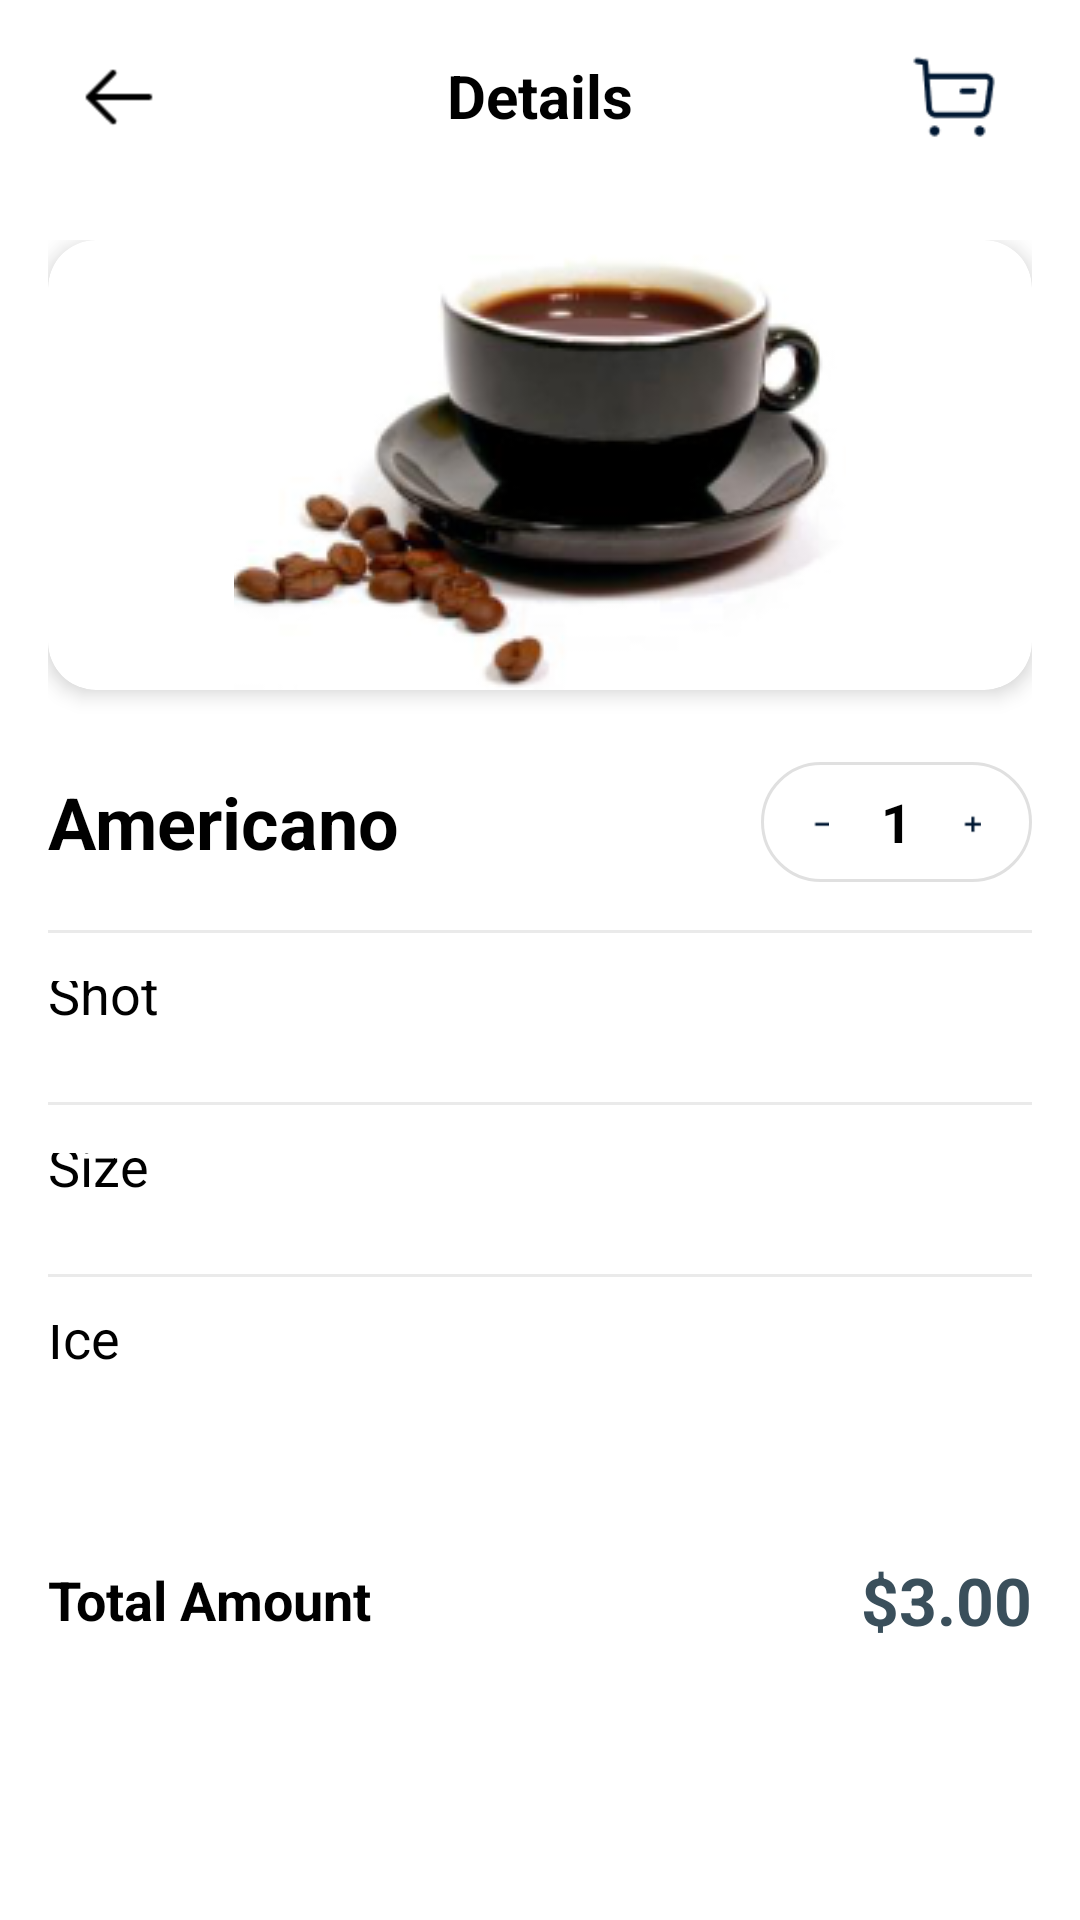

Named icons in this screenshot (1080 x 1920) and their centers, (x=x, y=y):
back: (x=119, y=97)
cart: (x=954, y=97)
minus: (x=821, y=822)
plus: (x=972, y=822)
